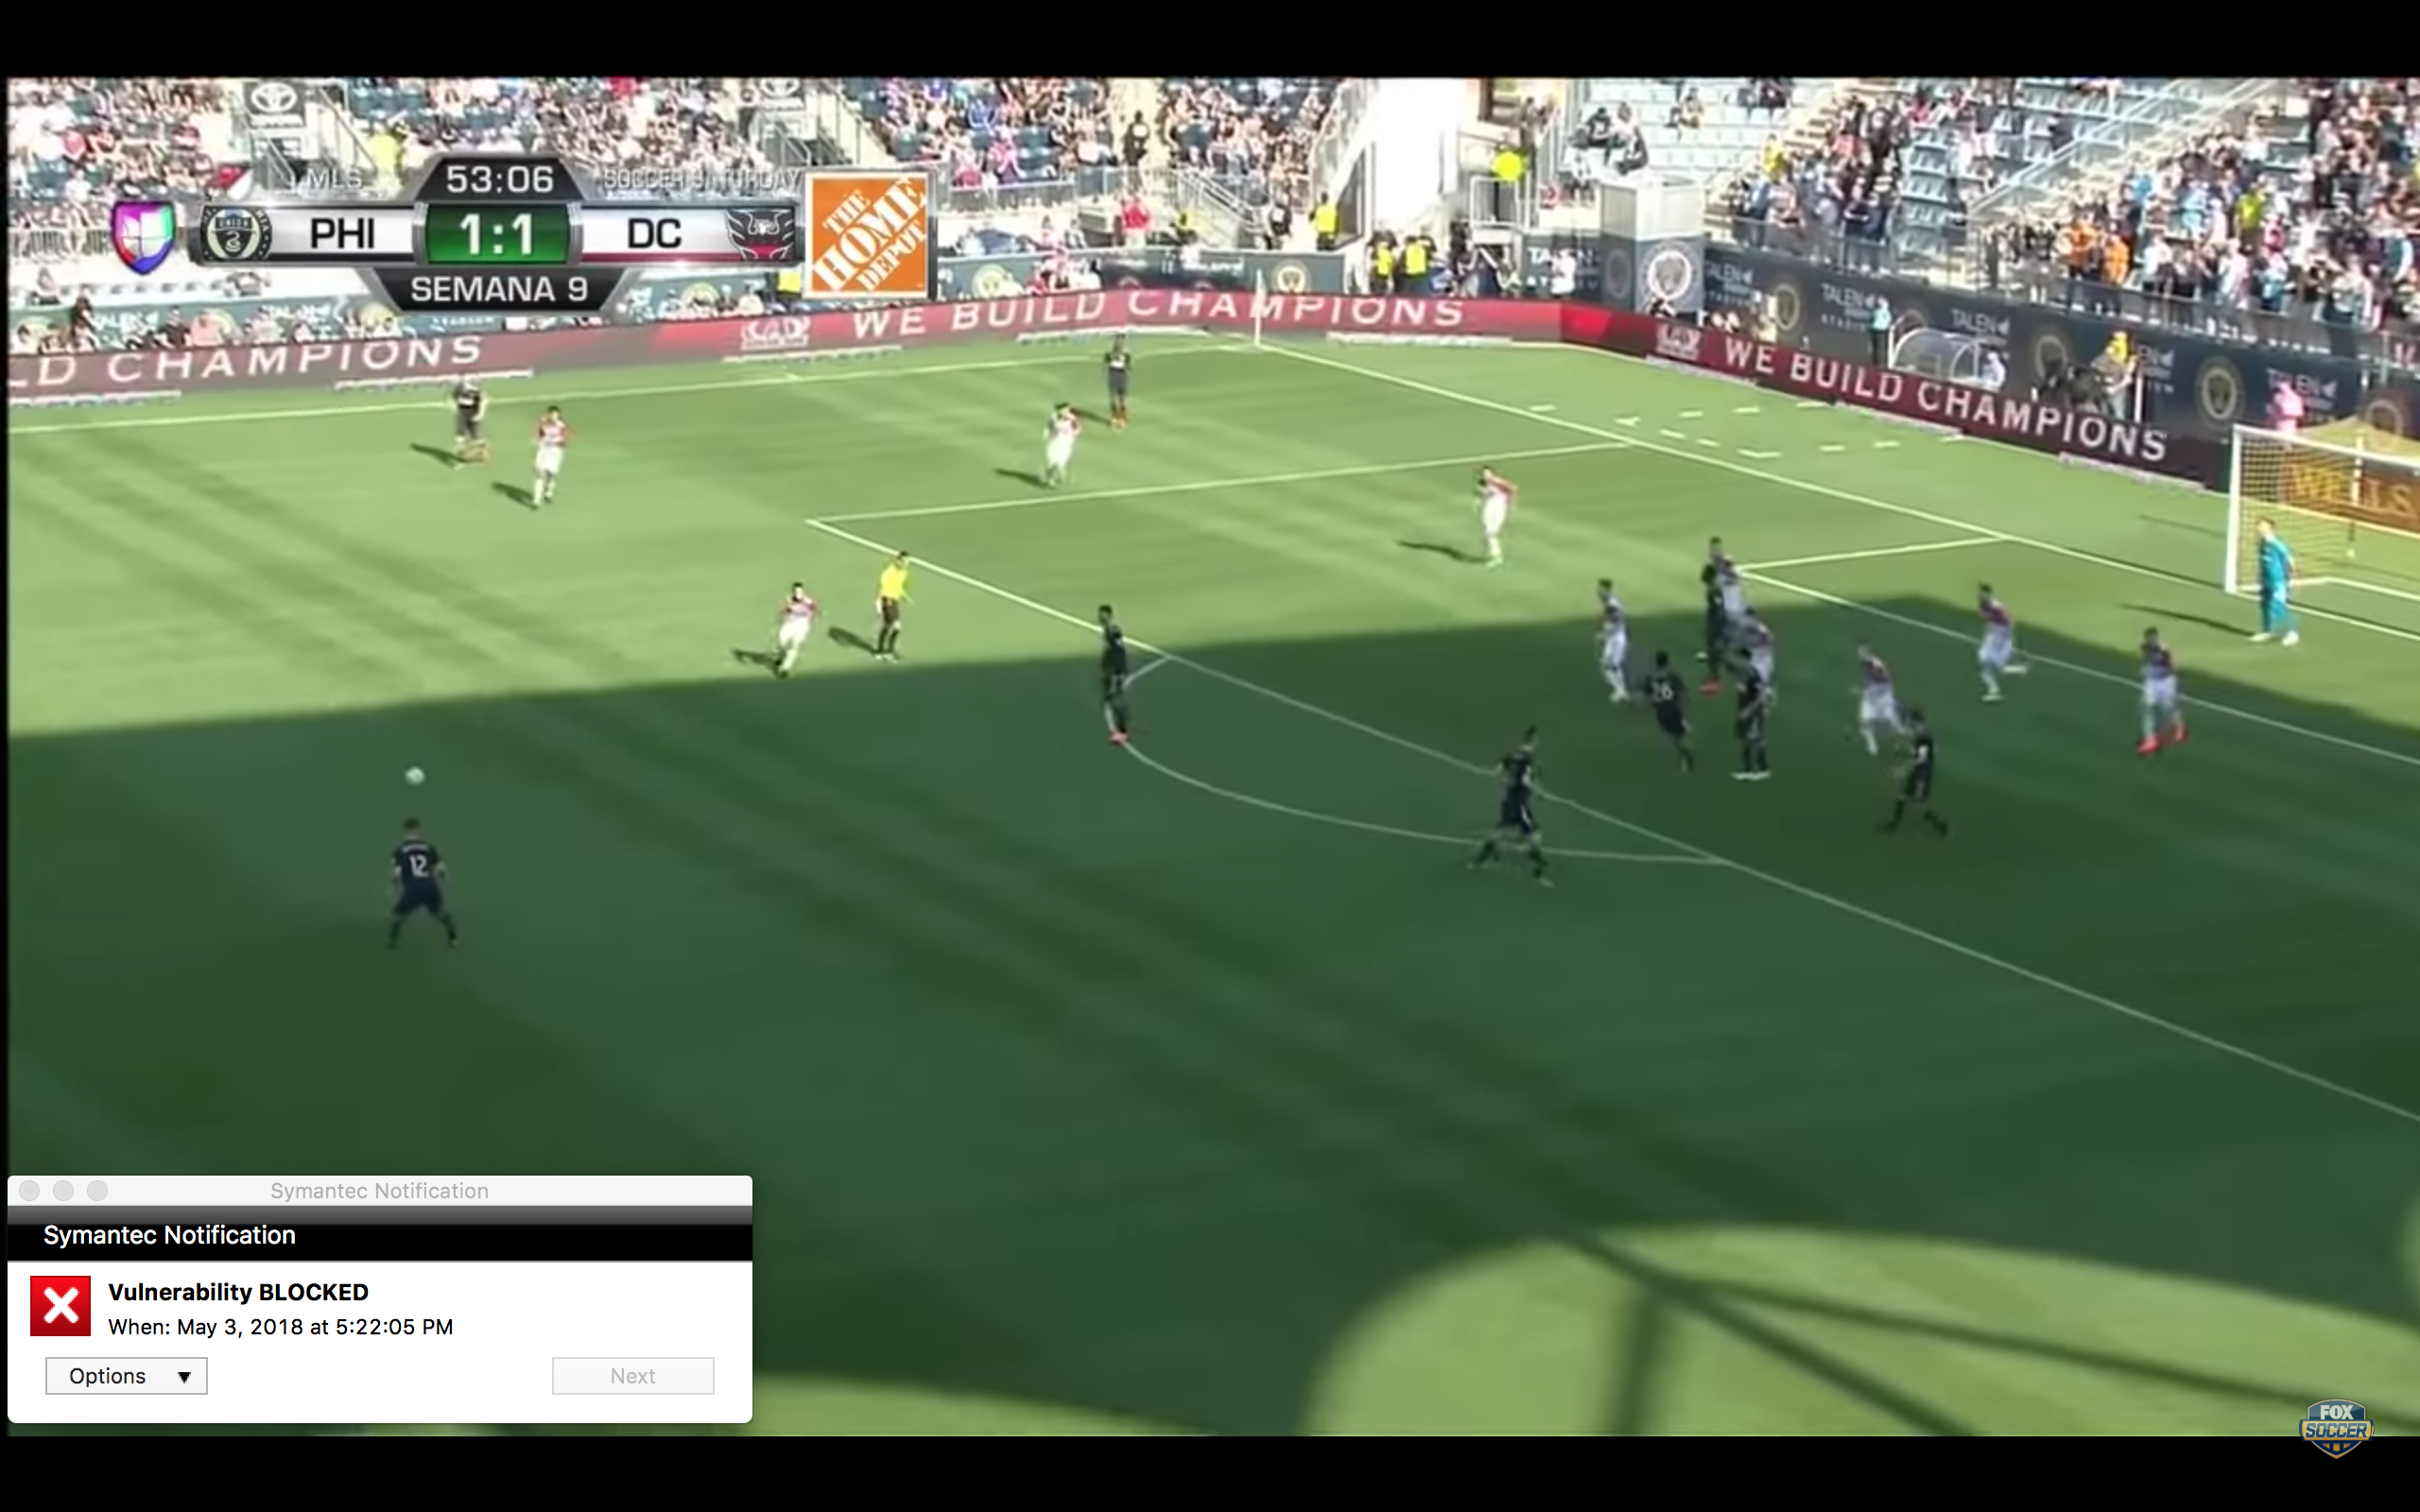referee: (867, 546, 932, 665)
soccer ball: (402, 763, 436, 795)
soccer player: (1451, 714, 1579, 896), (363, 816, 475, 965), (1877, 699, 1960, 850), (2234, 516, 2315, 659), (1077, 599, 1152, 753), (1961, 575, 2046, 707), (1443, 463, 1538, 575), (1568, 573, 1646, 704), (2118, 630, 2201, 755), (1696, 529, 1754, 697), (426, 369, 507, 472), (1718, 654, 1781, 782), (758, 577, 831, 680), (515, 399, 583, 510), (1646, 644, 1691, 789), (1026, 396, 1091, 490), (1736, 611, 1796, 696), (1096, 333, 1140, 437)
